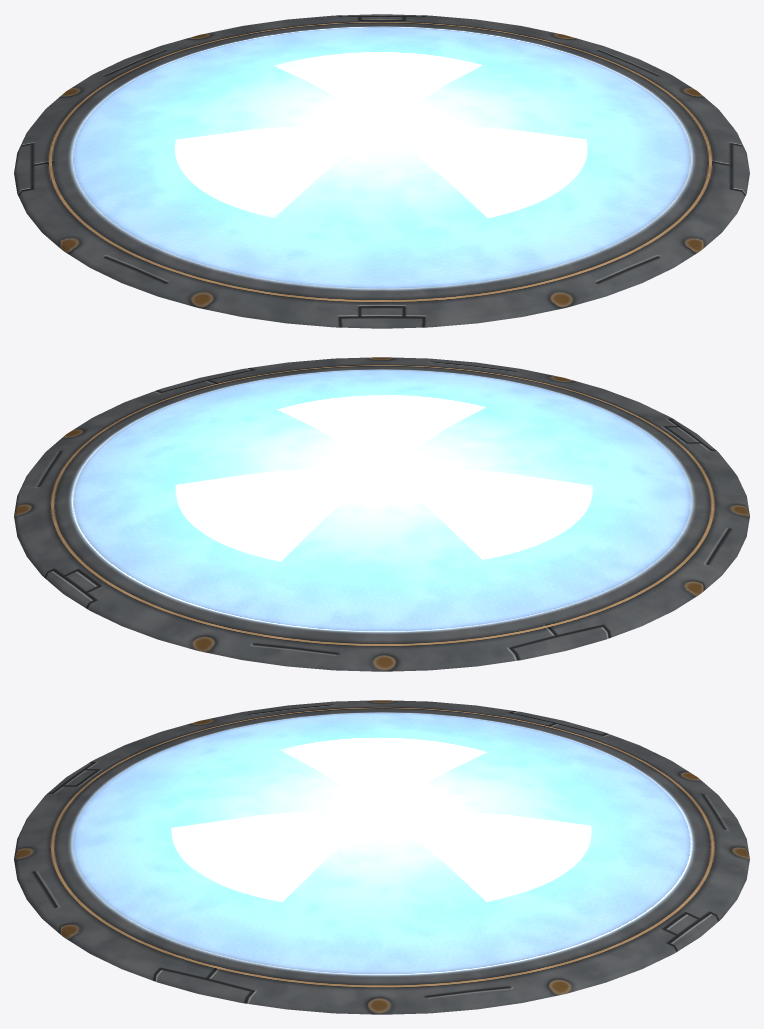
Rendered from teleport-pad-sub-lev2.fbx.
3 renders of one model, top to bottom at view 1: azimuth 30°, elevation 25°; view 2: azimuth 150°, elevation 25°; view 3: azimuth 270°, elevation 25°, orthographic.
Parts seen in each view (by area): view 1: teleport_pad_geo; view 2: teleport_pad_geo; view 3: teleport_pad_geo.
Boxes of the visible parts, x1,y1,x2,y2 form: teleport_pad_geo: (14,14,749,328); teleport_pad_geo: (14,357,749,671); teleport_pad_geo: (14,700,749,1014).
Size of the model in its own units: 8.76 by 0.6519 by 8.76.
